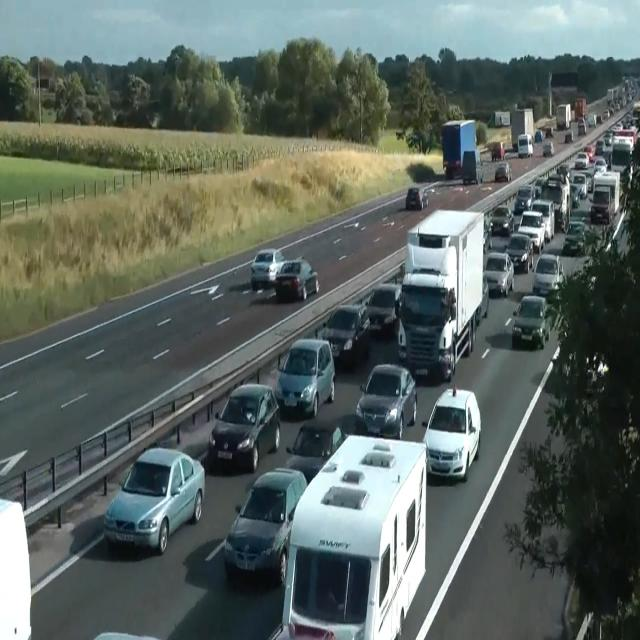bus: (103, 446, 205, 556), (223, 467, 307, 584), (208, 383, 280, 473), (421, 386, 481, 481), (274, 338, 336, 418), (355, 363, 417, 440), (0, 497, 32, 639), (285, 423, 347, 484), (551, 342, 609, 396), (320, 302, 370, 364), (512, 294, 550, 350), (275, 255, 319, 301), (364, 282, 401, 335), (607, 206, 639, 267), (250, 248, 286, 291), (531, 253, 565, 297), (483, 251, 514, 297), (517, 210, 545, 253), (504, 233, 533, 274), (583, 351, 609, 396), (530, 199, 554, 242), (563, 220, 587, 256), (489, 206, 514, 236), (514, 185, 533, 214), (406, 187, 428, 210), (570, 173, 588, 199), (494, 162, 512, 182), (482, 217, 492, 253), (444, 159, 462, 179), (491, 141, 505, 162), (481, 275, 488, 317), (575, 151, 589, 169), (593, 157, 607, 175), (556, 164, 570, 182), (570, 184, 580, 209), (532, 178, 544, 197), (583, 145, 595, 163), (542, 142, 554, 156), (595, 138, 605, 154), (578, 119, 586, 135), (534, 130, 544, 142), (565, 130, 573, 142), (544, 126, 552, 138)
car: (272, 431, 428, 638)
jeep: (517, 132, 533, 158)
minibus: (397, 208, 485, 381), (441, 118, 483, 184), (540, 172, 571, 232), (510, 108, 534, 150), (461, 147, 483, 185), (556, 103, 571, 130), (574, 98, 586, 122), (494, 110, 510, 126)
